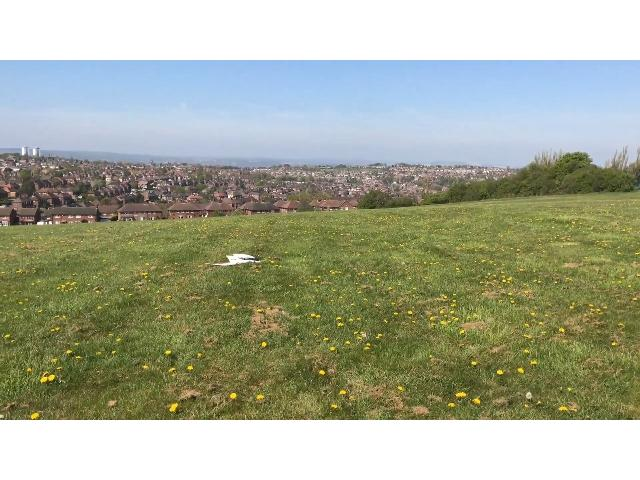Anti-Drone: (204, 243, 274, 277)
